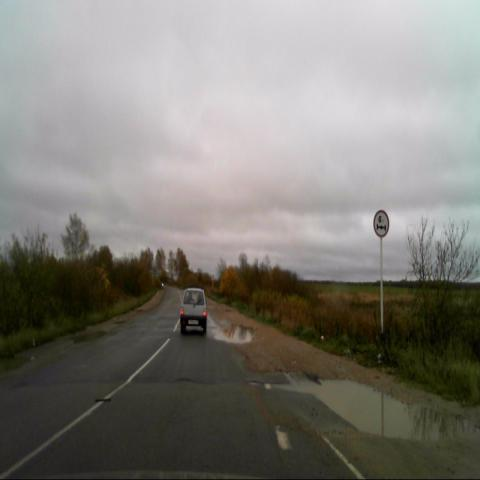3_12: (372, 209, 390, 238)
